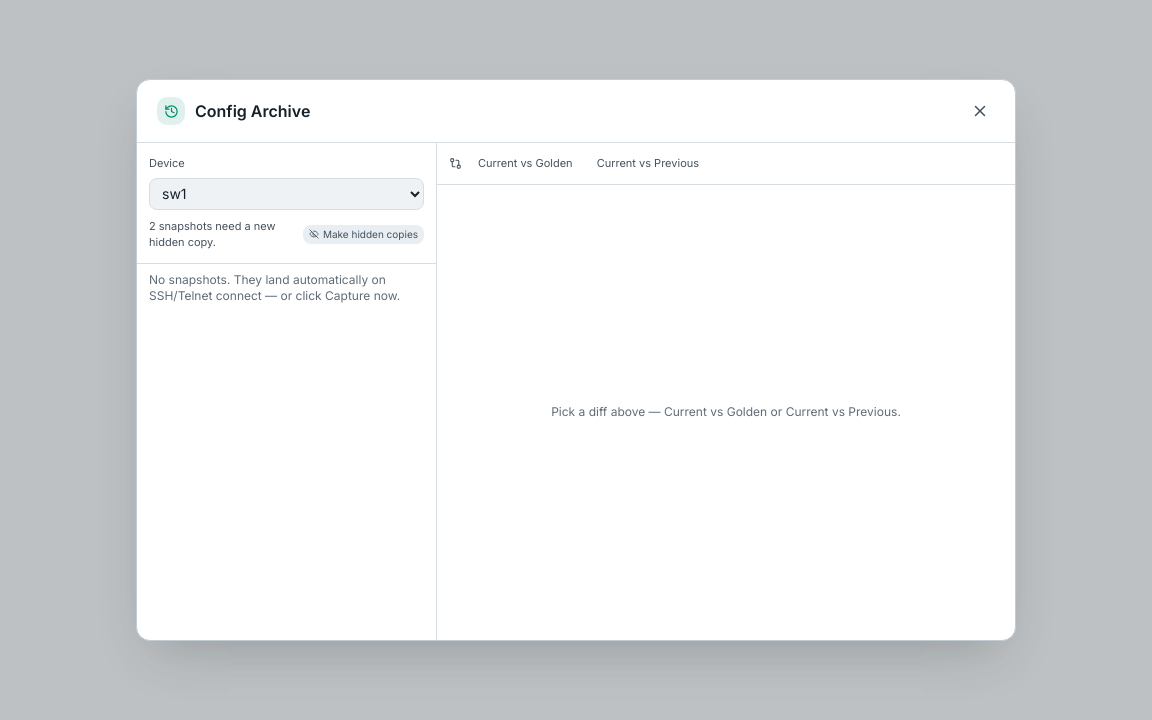
Scenario: ConfigArchive hidden copies › shows how many snapshots need a hidden copy and makes them
Check: the text "2 snapshots need a new hidden copy." is shown, box x1=149 y1=218 x2=295 y2=251
Step 1. Click the button "Make hidden copies" → [363, 234], box x1=303 y1=225 x2=424 y2=244
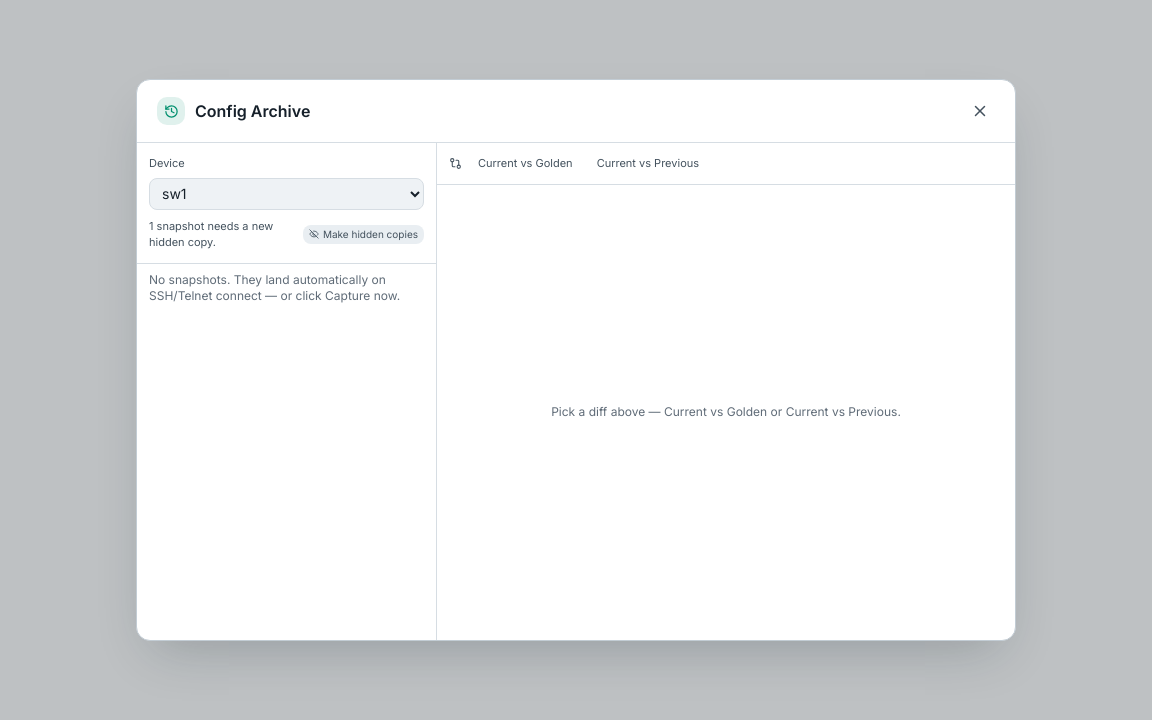
Check: the text "1 snapshot needs a new hidden copy." is shown, box x1=149 y1=218 x2=295 y2=251
